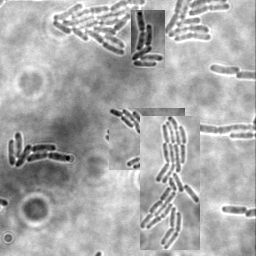Dividing: (186, 114, 255, 133), (221, 204, 248, 215)
Microcolony: (140, 116, 200, 250), (51, 1, 147, 56), (109, 108, 185, 170), (162, 1, 231, 44), (8, 130, 72, 167), (131, 10, 165, 68), (208, 63, 240, 74)
